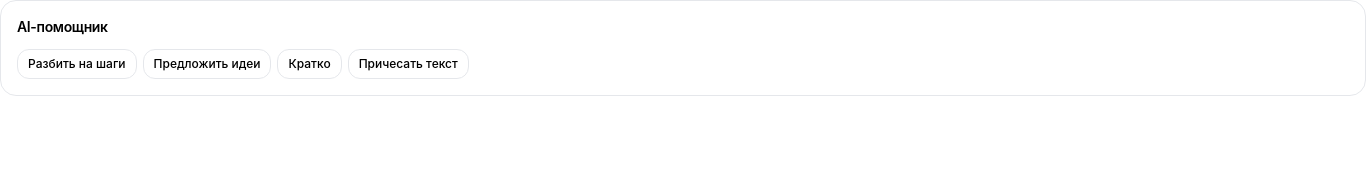
Test case: AiAssistant › показывает подсказки и помечает демо-режим без ключа
Click the button "Разбить на шаги".
click(77, 64)  # box [17,49,137,79]
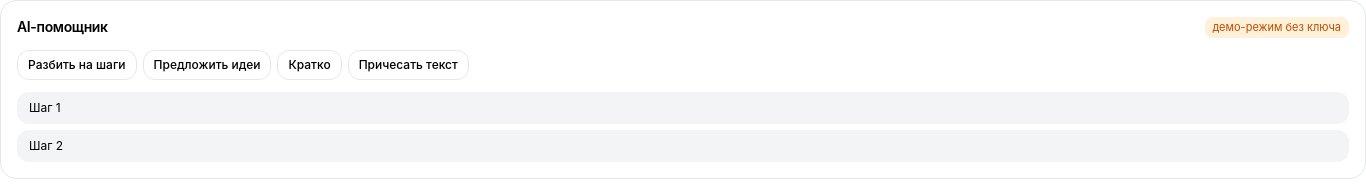
Now the text "Шаг 1" is shown, box [29,100,61,114]
Now the text "демо-режим без ключа" is shown, box [1204,17,1349,38]
